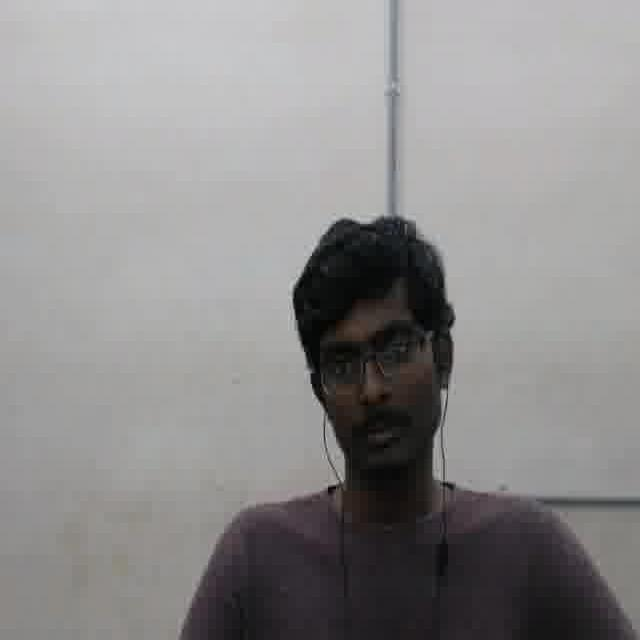Engaged: (313, 292, 433, 480)
